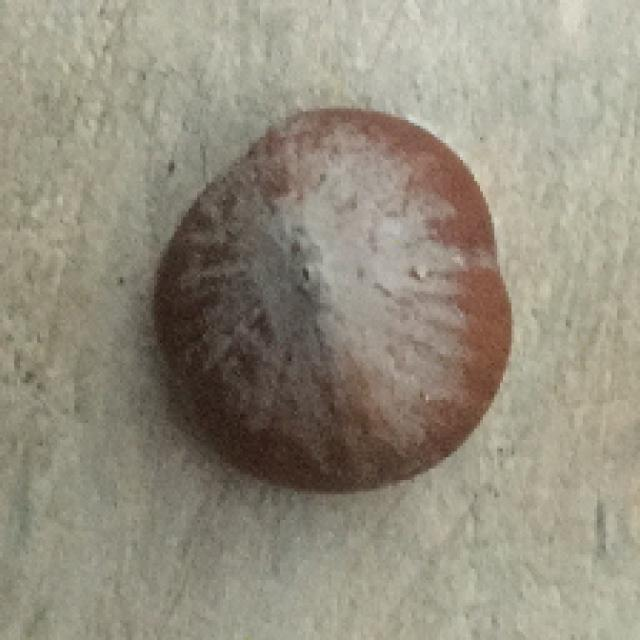qualityHazelnut: (161, 104, 517, 494)
